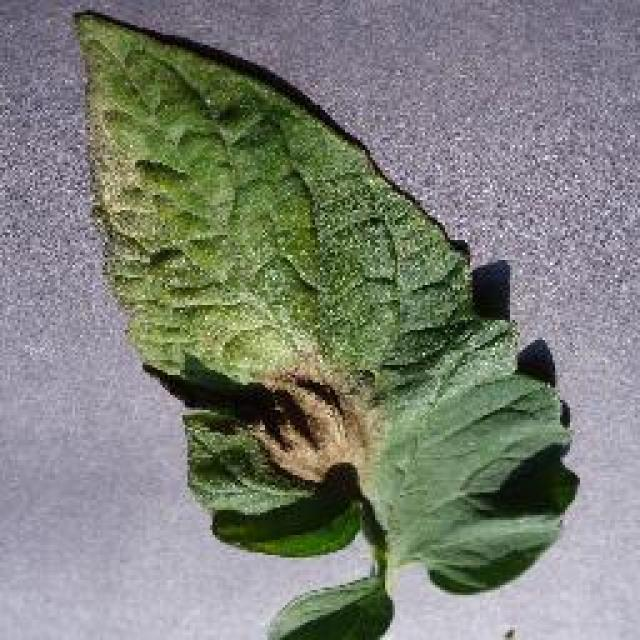leaf blight: (80, 23, 585, 640)
